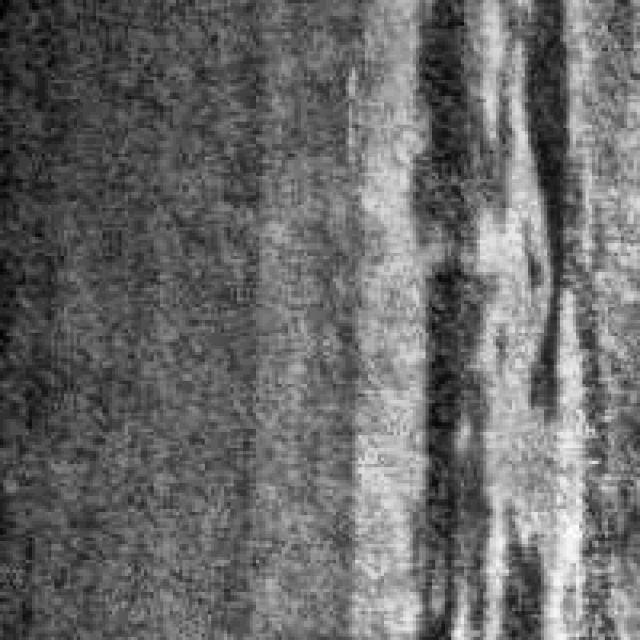Patches: (406, 0, 569, 630)
